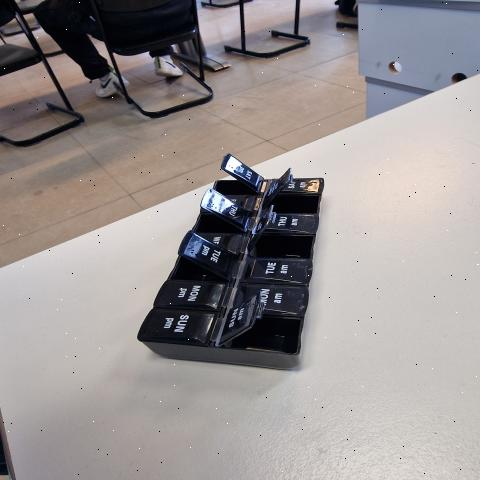Open: (219, 292, 302, 353), (248, 209, 314, 259), (168, 254, 230, 282), (195, 205, 247, 233), (266, 192, 315, 215), (215, 181, 256, 195)
